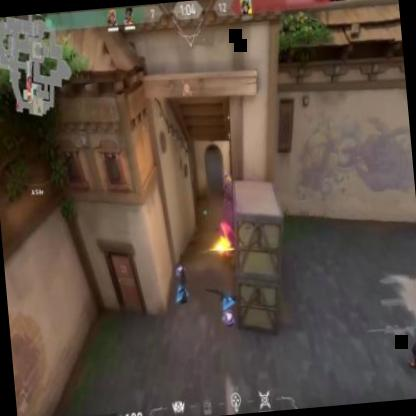enemy: (221, 168, 234, 206)
enemy_head: (224, 171, 228, 178)
